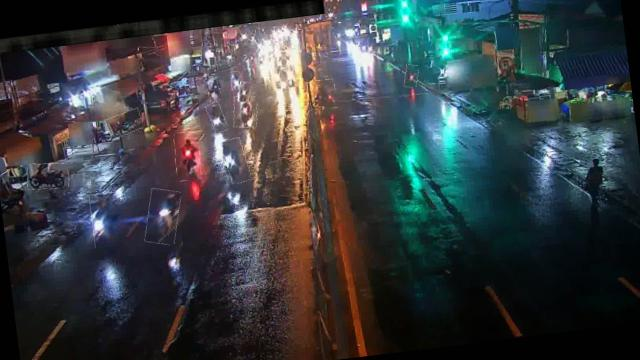Bike: (142, 186, 184, 246), (88, 191, 125, 247), (172, 131, 202, 182), (25, 159, 70, 191), (221, 136, 249, 184), (105, 110, 144, 138), (306, 78, 336, 110), (231, 94, 259, 128), (206, 101, 227, 133), (402, 63, 420, 88), (206, 79, 222, 102), (237, 80, 252, 102), (230, 71, 242, 94)
